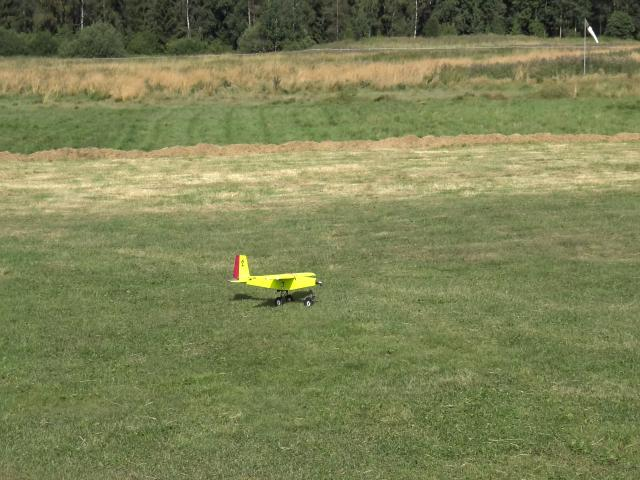plane: (228, 253, 322, 309)
